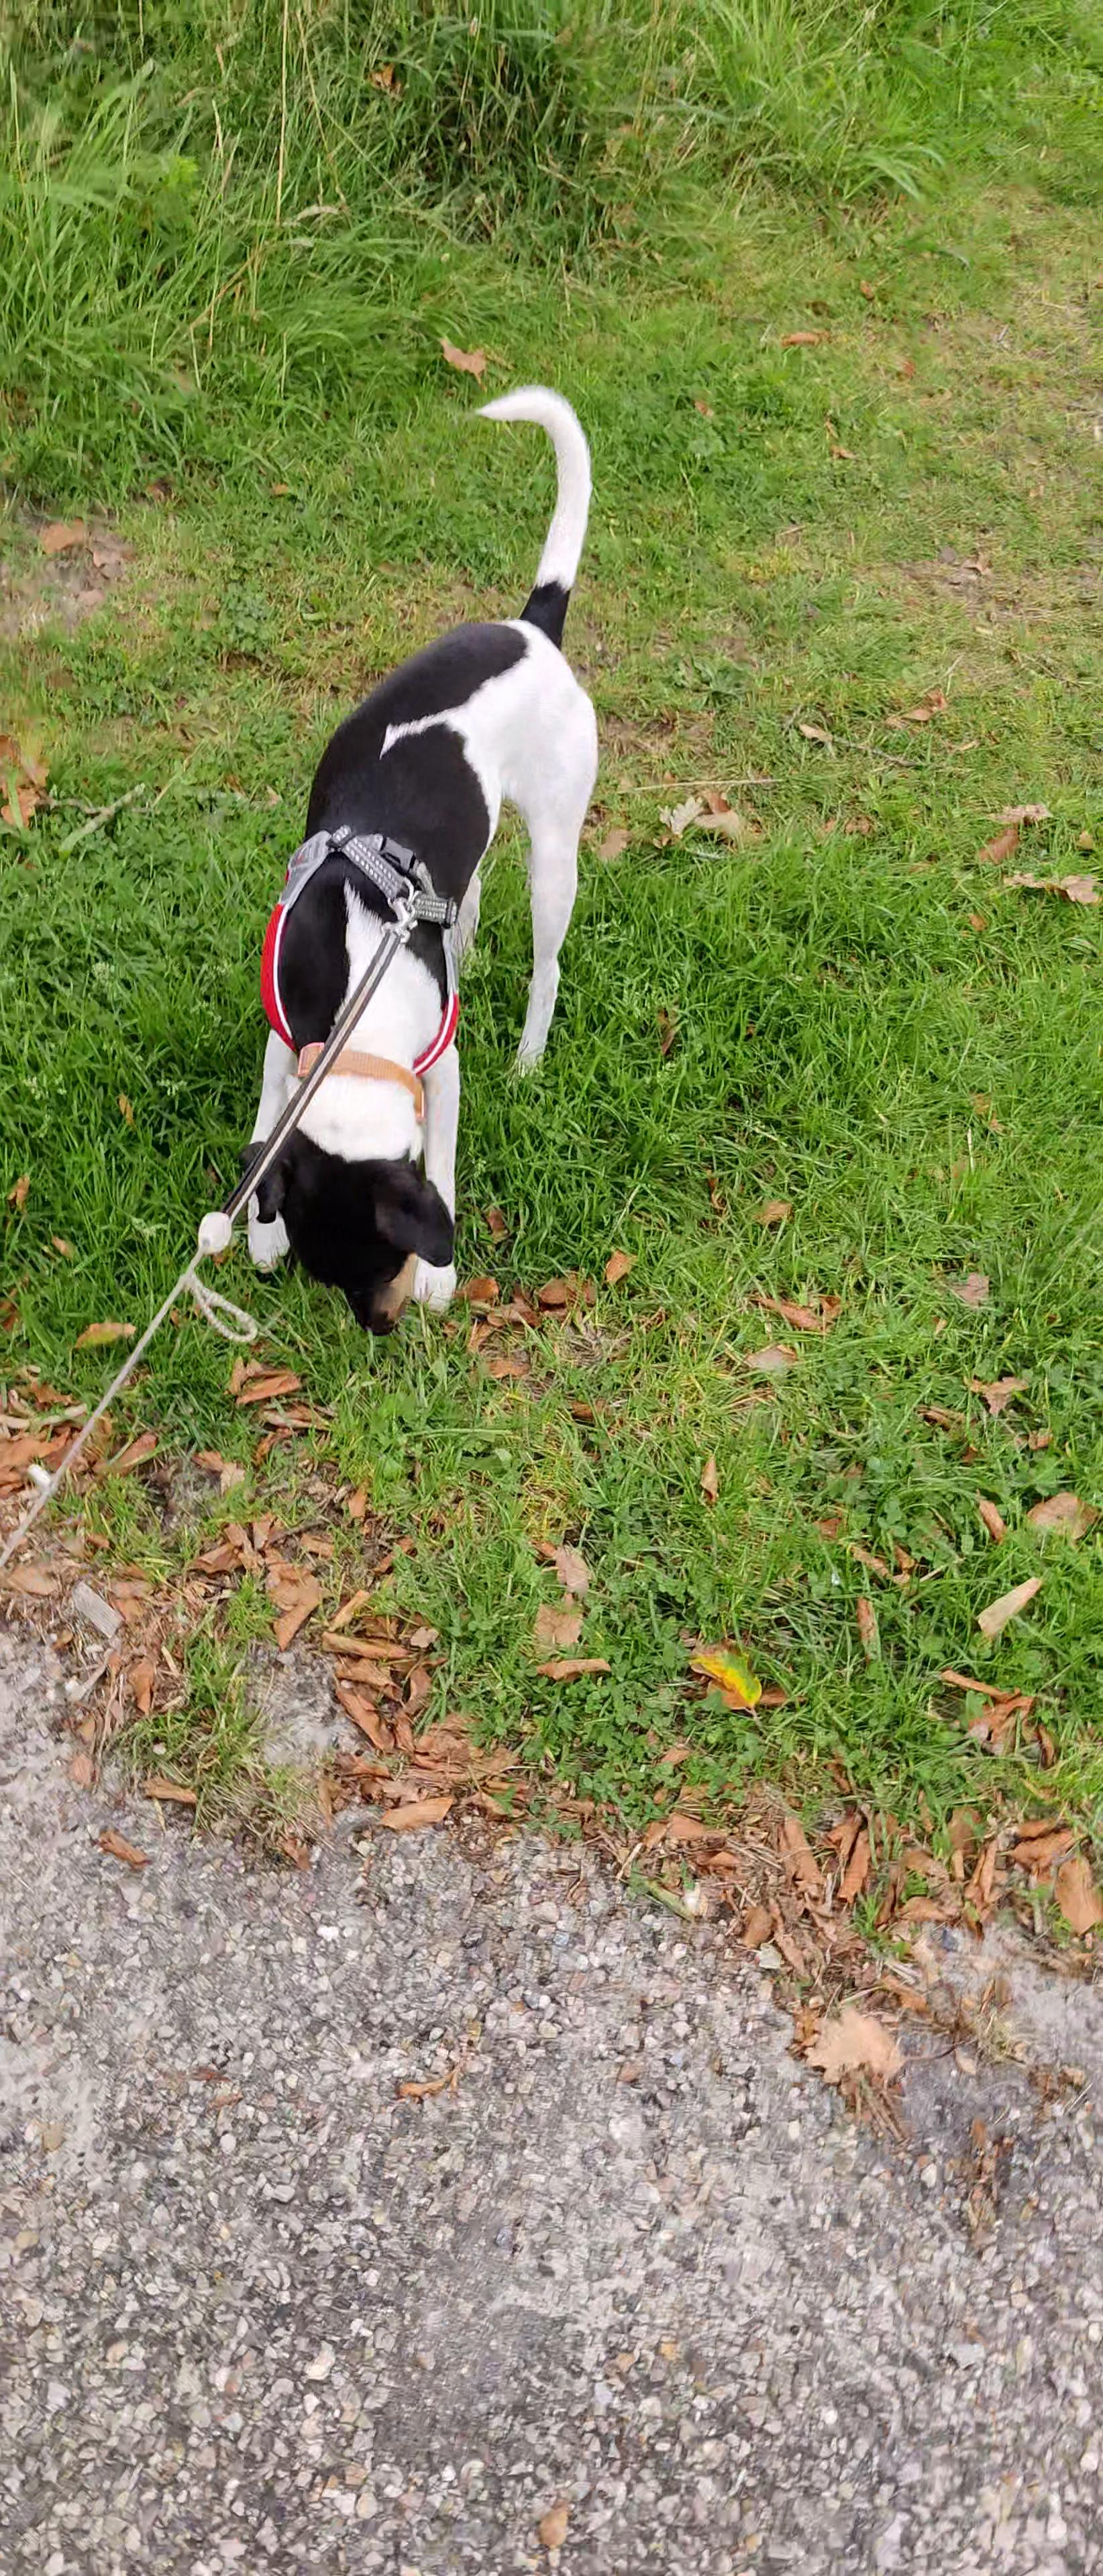Dog: (207, 375, 616, 1345)
